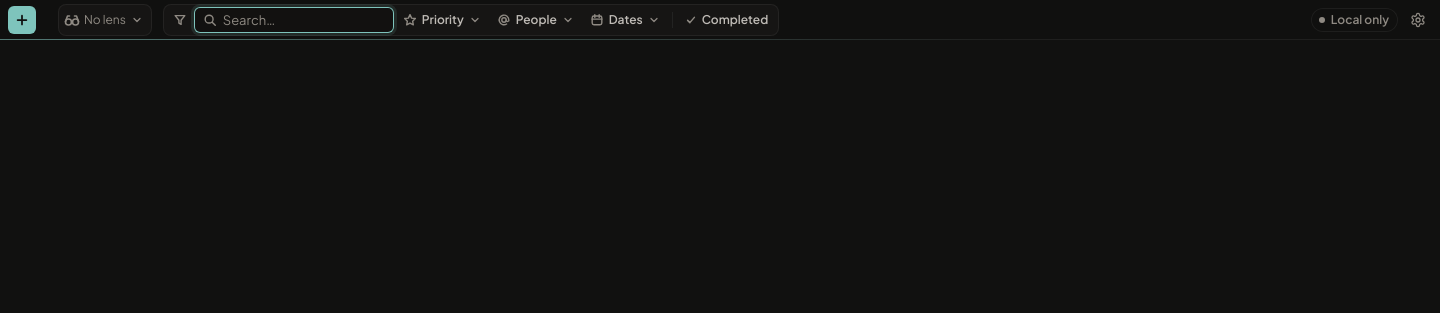
TopBar grouped search › "Show all" expansion resets when the query changes
Step 1. Type "task" into the field with placeholder "Search…" → [294, 20], box [194,6,394,32]
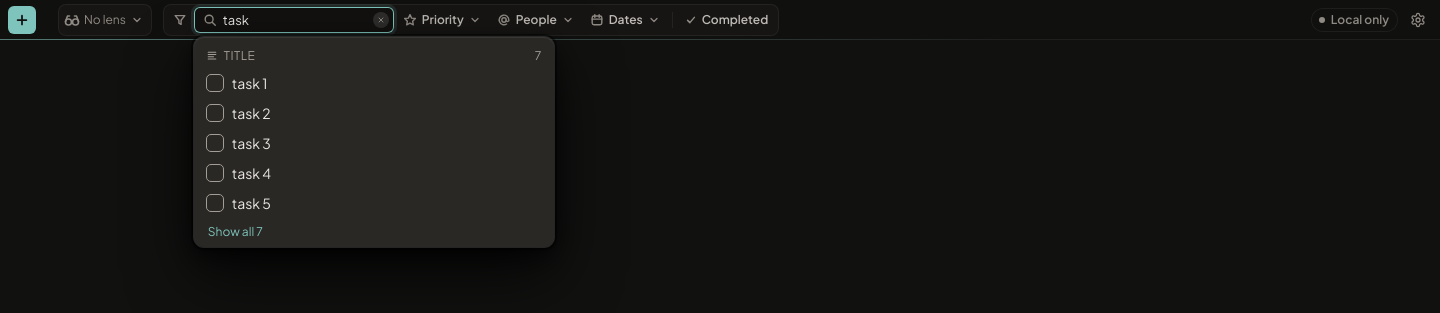
Step 2. Press the mouse on the button "Show all 7" → [232, 231], box [198,220,550,242]
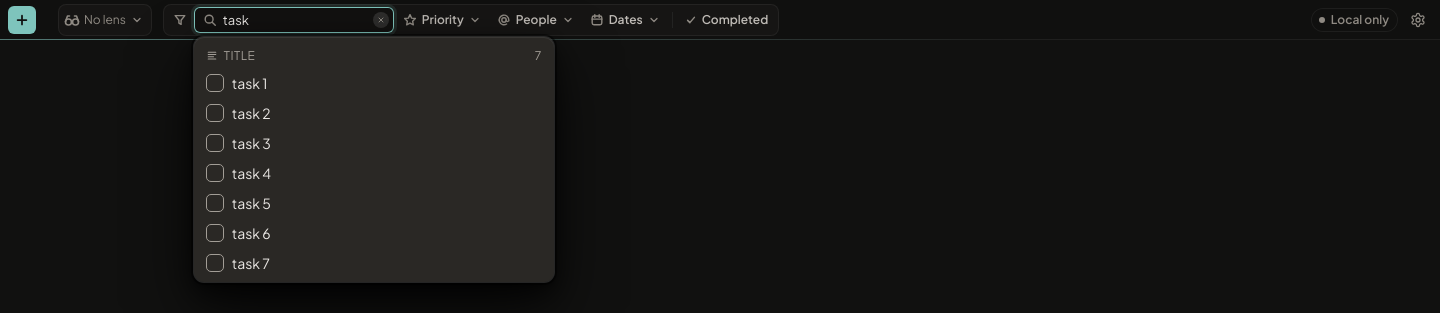
Expected: the number of options is 7
Expected: the button "Show all 7" is gone
Step 3. Replace the text in the field with placeholder "Search…" with "tas" → [294, 20], box [194,6,394,32]
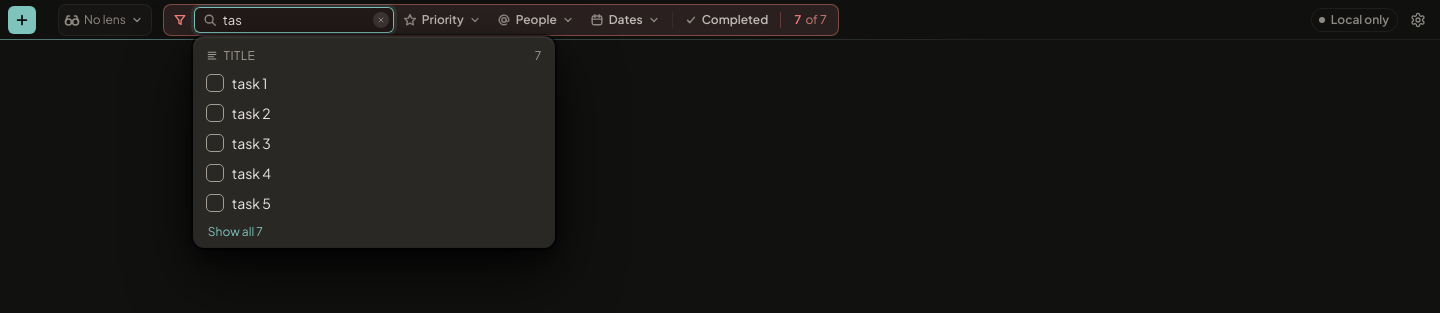
Expected: the number of options is 5, [232,74,542,92]; [232,104,542,122]; [232,134,542,152]; [232,164,542,182]; [232,194,542,212]
Expected: the button "Show all 7" is shown, [198,220,550,242]
